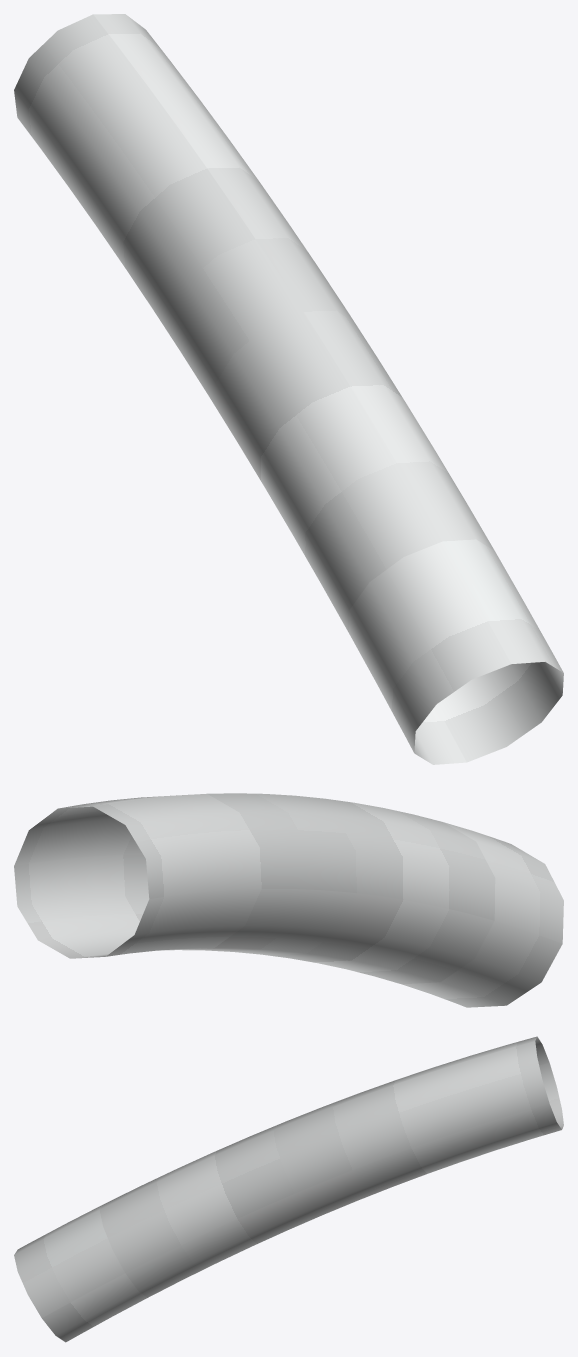
The model's file is luminairearm_caltrans8ftdouble_c2.obj.
3 renders of one model, top to bottom at view 1: azimuth 30°, elevation 25°; view 2: azimuth 150°, elevation 25°; view 3: azimuth 270°, elevation 25°, orthographic. The views are drawn at different scales.
Visible parts, largest first — view 1: luminairearm_caltrans8ftdouble_c2; view 2: luminairearm_caltrans8ftdouble_c2; view 3: luminairearm_caltrans8ftdouble_c2.
Boxes of the visible parts, x1,y1,x2,y2 form: luminairearm_caltrans8ftdouble_c2: [14, 14, 563, 764]; luminairearm_caltrans8ftdouble_c2: [14, 793, 563, 1007]; luminairearm_caltrans8ftdouble_c2: [14, 1036, 563, 1342].
Size of the model in its own units: 0.2083 by 0.6425 by 1.08.
